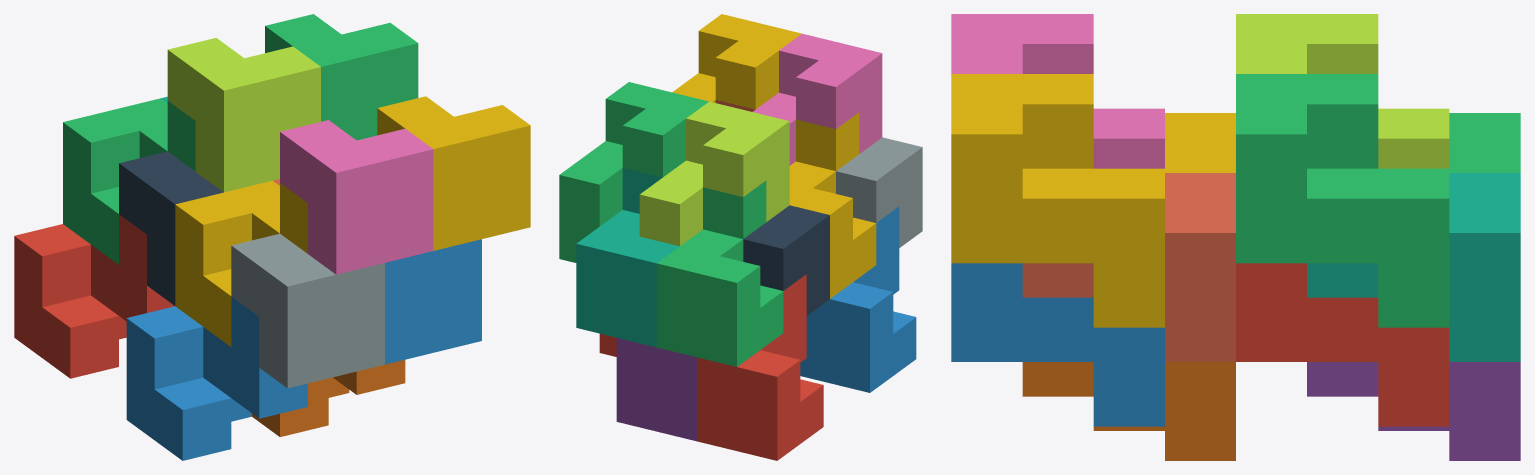
File: tiling.obj
3 views of the same model, side by side, from view 1: azimuth 30°, elevation 25°; view 2: azimuth 150°, elevation 25°; view 3: azimuth 270°, elevation 25° (orthographic). The views are drawn at different scales.
Visible parts, largest first — view 1: copy_2_domain_4, copy_1_domain_2, copy_2_domain_2, copy_1_domain_1, copy_2_domain_3, copy_2_domain_8, copy_1_domain_4, copy_1_domain_3, copy_2_domain_7, copy_2_domain_6, copy_2_domain_1, copy_1_domain_6; view 2: copy_1_domain_3, copy_1_domain_1, copy_2_domain_3, copy_2_domain_7, copy_1_domain_2, copy_1_domain_7, copy_2_domain_4, copy_1_domain_4, copy_2_domain_8, copy_1_domain_5, copy_2_domain_2, copy_2_domain_1; view 3: copy_2_domain_8, copy_2_domain_7, copy_2_domain_6, copy_2_domain_5, copy_1_domain_7, copy_1_domain_8, copy_2_domain_3, copy_2_domain_4, copy_1_domain_5, copy_1_domain_6, copy_1_domain_3, copy_1_domain_4.
Boxes of the visible parts, left/top/right/bottom form: copy_2_domain_4: left=280, top=120, right=433, bottom=274; copy_1_domain_2: left=126, top=296, right=307, bottom=460; copy_2_domain_2: left=231, top=233, right=384, bottom=388; copy_1_domain_1: left=14, top=214, right=174, bottom=378; copy_2_domain_3: left=167, top=38, right=320, bottom=192; copy_2_domain_8: left=377, top=96, right=530, bottom=250; copy_1_domain_4: left=175, top=180, right=307, bottom=346; copy_1_domain_3: left=63, top=98, right=195, bottom=264; copy_2_domain_7: left=265, top=14, right=418, bottom=140; copy_2_domain_6: left=385, top=239, right=481, bottom=364; copy_2_domain_1: left=119, top=151, right=223, bottom=305; copy_1_domain_6: left=252, top=360, right=405, bottom=436; copy_1_domain_3: left=656, top=180, right=783, bottom=366; copy_1_domain_1: left=697, top=274, right=823, bottom=460; copy_2_domain_3: left=639, top=101, right=789, bottom=246; copy_2_domain_7: left=559, top=82, right=708, bottom=262; copy_1_domain_2: left=800, top=206, right=916, bottom=392; copy_1_domain_7: left=576, top=168, right=679, bottom=347; copy_2_domain_4: left=753, top=33, right=882, bottom=165; copy_1_domain_4: left=789, top=112, right=876, bottom=298; copy_2_domain_8: left=672, top=14, right=801, bottom=109; copy_1_domain_5: left=616, top=338, right=696, bottom=441; copy_2_domain_2: left=836, top=137, right=922, bottom=247; copy_2_domain_1: left=743, top=205, right=829, bottom=315; copy_2_domain_8: left=951, top=74, right=1164, bottom=327; copy_2_domain_7: left=1236, top=74, right=1449, bottom=327; copy_2_domain_6: left=951, top=263, right=1164, bottom=426; copy_2_domain_5: left=1236, top=263, right=1449, bottom=426; copy_1_domain_7: left=1307, top=173, right=1520, bottom=361; copy_1_domain_8: left=1022, top=173, right=1235, bottom=361; copy_2_domain_3: left=1236, top=14, right=1449, bottom=168; copy_2_domain_4: left=951, top=14, right=1164, bottom=168; copy_1_domain_5: left=1307, top=362, right=1520, bottom=460; copy_1_domain_6: left=1022, top=362, right=1235, bottom=460; copy_1_domain_3: left=1449, top=113, right=1520, bottom=172; copy_1_domain_4: left=1165, top=113, right=1235, bottom=172.
Bounding box in the file's own units: 6 × 6 × 8.
